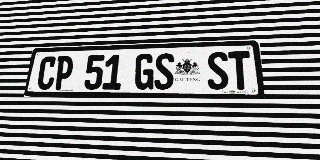1: (102, 54, 123, 90)
5: (84, 55, 105, 90)
C: (36, 56, 57, 90)
G: (134, 54, 155, 90)
P: (53, 56, 74, 90)
S: (207, 52, 229, 90), (154, 53, 174, 90)
T: (228, 51, 252, 90)
